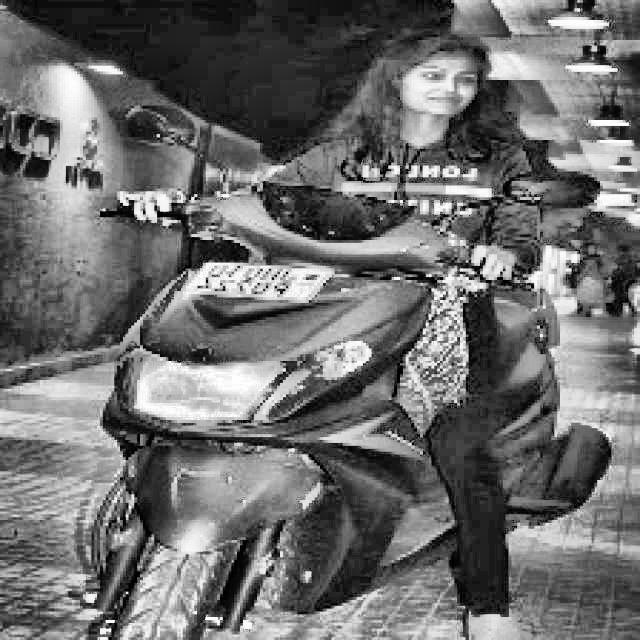motorcycle: (78, 159, 606, 640)
